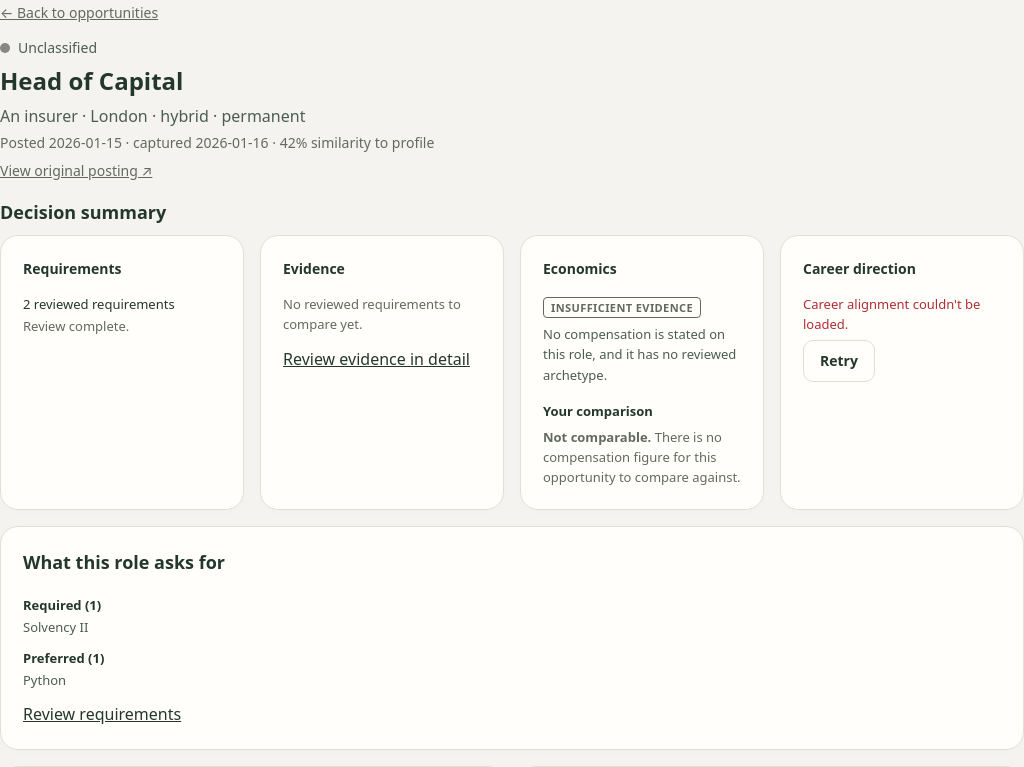
Opportunity Decision Workspace — posting › retries the alignment fetch alone without reloading the rest of the page
The image size is (1024, 767).
Expected: the text "Career alignment couldn't be loaded." is shown, [803, 294, 1001, 334]
Click the button "Retry": click(839, 361) [803, 340, 875, 382]
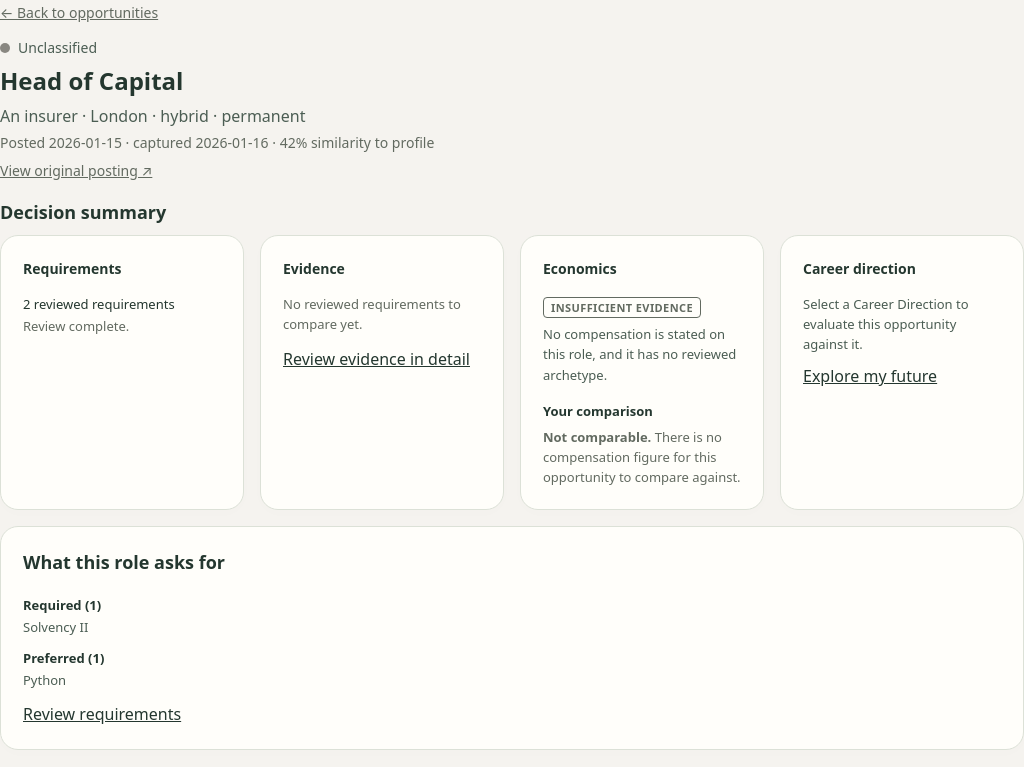
Result: the text "Select a Career Direction to evaluate this opportunity against it." is shown at [803, 294, 969, 353]
